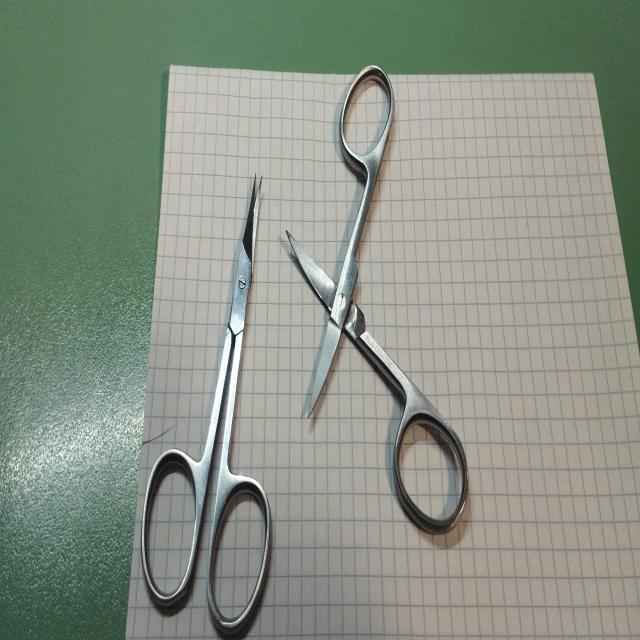tesoura: (284, 56, 470, 540), (139, 155, 277, 640)
